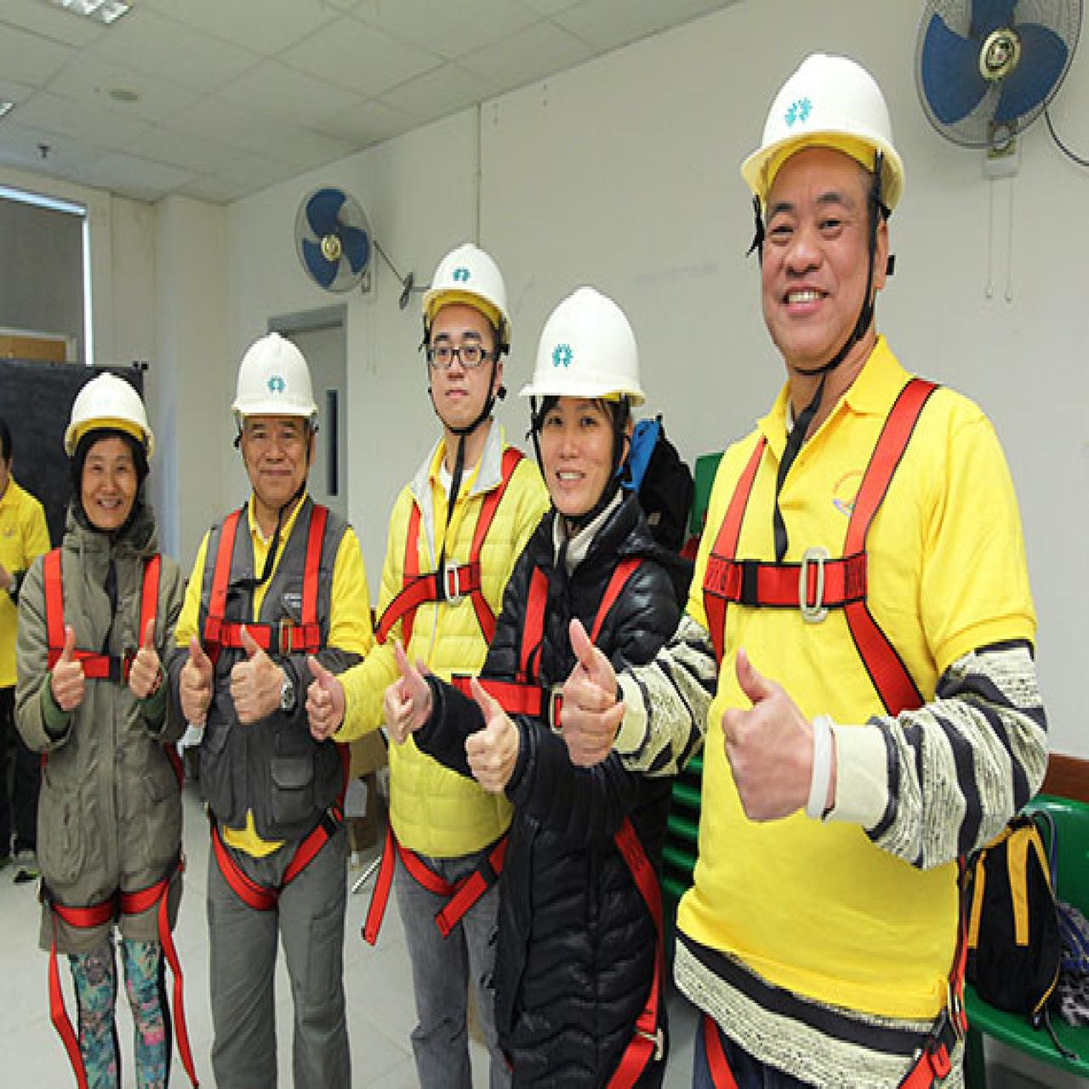NO_Safety_Vest: (699, 383, 1006, 1023), (488, 531, 682, 947), (383, 445, 541, 860), (187, 500, 365, 852), (20, 545, 185, 885)
Person: (634, 56, 1050, 1089), (391, 289, 688, 1086), (305, 223, 544, 1089), (169, 333, 371, 1089), (8, 350, 199, 1089)
